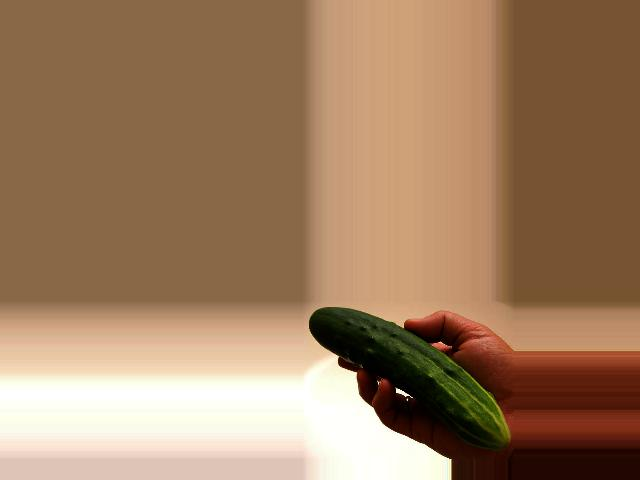cucumber: (308, 308, 509, 451)
